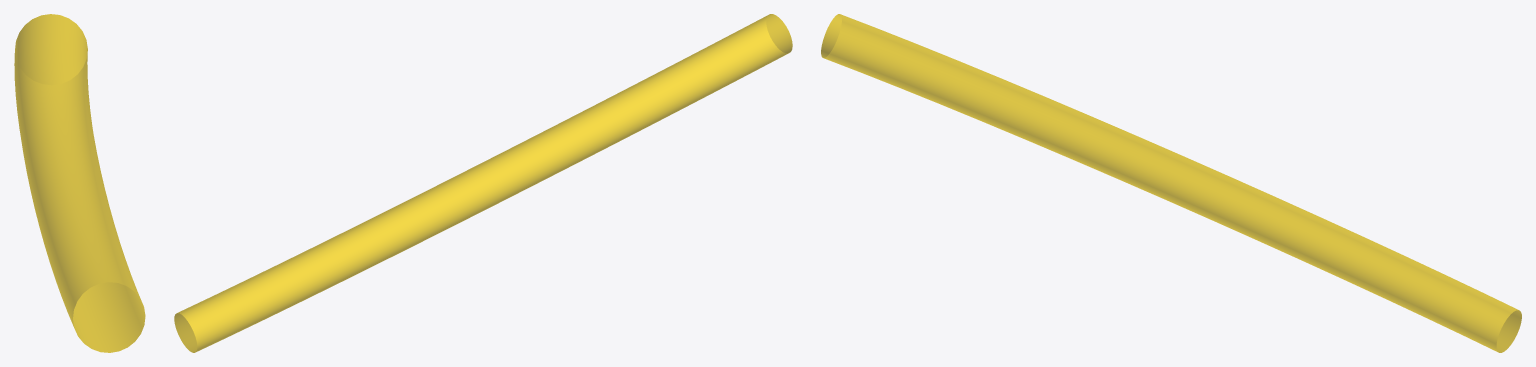
File: Event_419990632_track_80.fbx
The picture shows the model from 3 angles, left to right: view 1: azimuth 90°, elevation 25°; view 2: azimuth 210°, elevation 25°; view 3: azimuth 330°, elevation 25°; orthographic projection. The views are drawn at different scales.
Visible parts, largest first — view 1: Model; view 2: Model; view 3: Model.
Part boxes in pixels (x1,y1,x2,y2): Model: (14,14,145,352); Model: (174,14,792,352); Model: (821,14,1521,352).
Bounding box in the file's own units: 0.6537 × 0.1779 × 0.0718.
